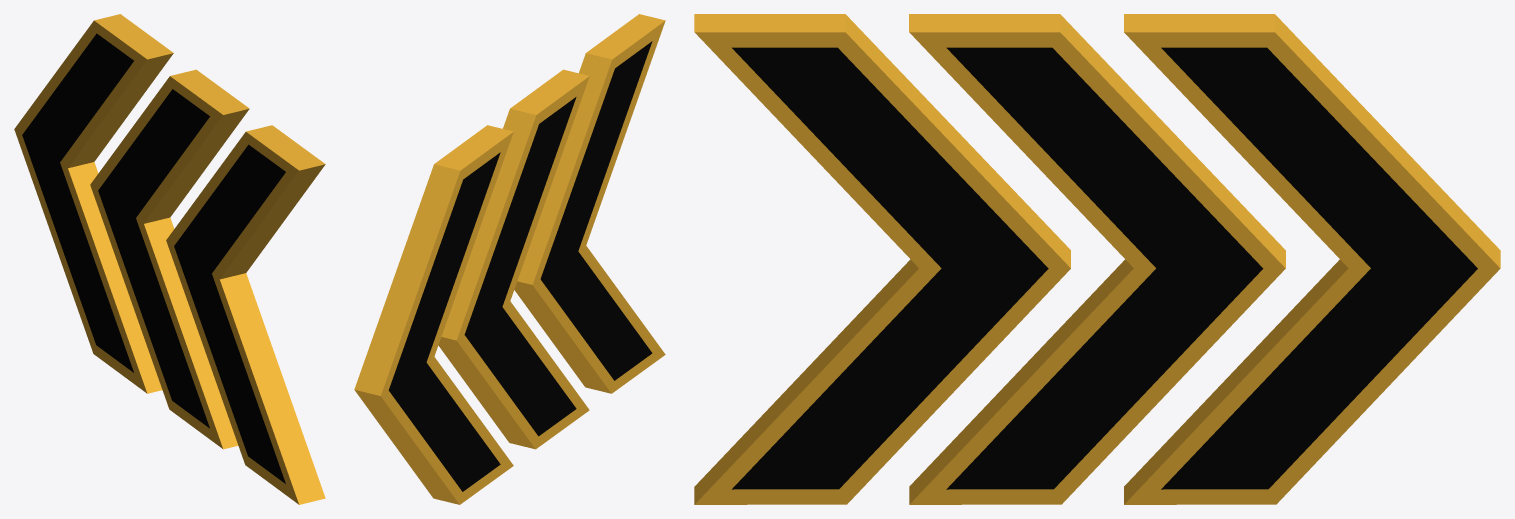
File: SpeedBonus.fbx
3 renders of one model, left to right at view 1: azimuth 30°, elevation 25°; view 2: azimuth 150°, elevation 25°; view 3: azimuth 270°, elevation 25°, orthographic. The views are drawn at different scales.
Parts seen in each view (by area): view 1: Plane; view 2: Plane; view 3: Plane.
Boxes of the visible parts, box(x1,y1,x2,y2) form: Plane: box(14, 14, 325, 504); Plane: box(354, 14, 665, 504); Plane: box(694, 14, 1500, 504).
Size of the model in its own units: 44.4 by 536 by 828.
